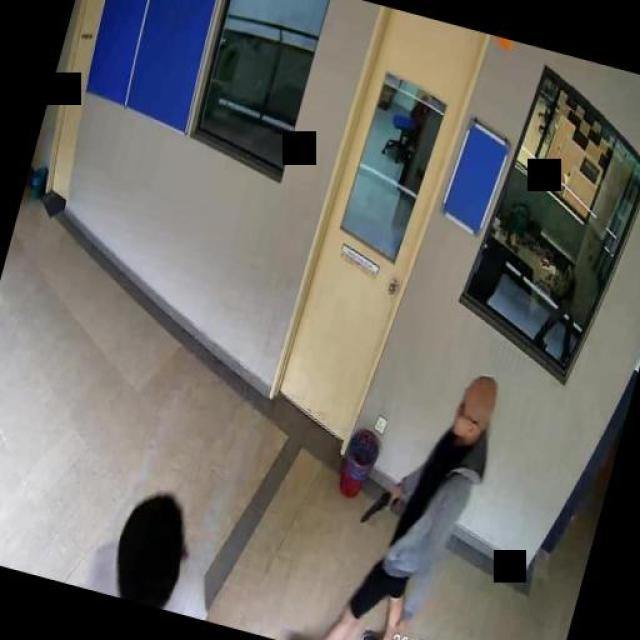gun: (358, 482, 398, 530)
